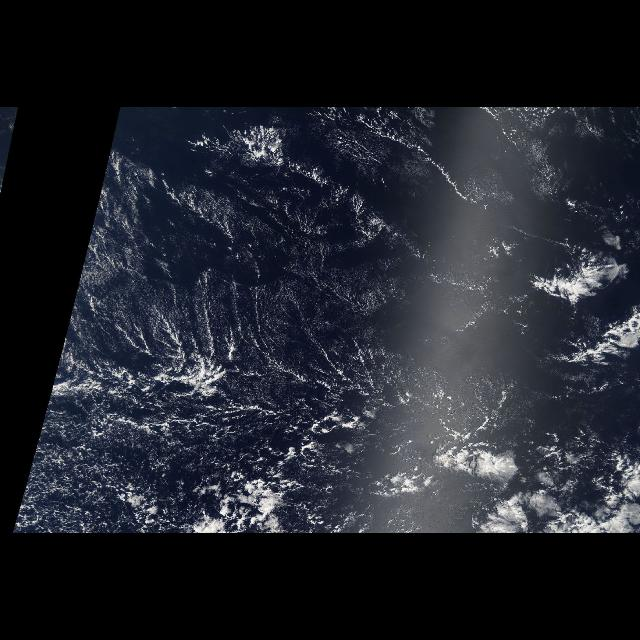Gravel: (14, 375, 338, 533)
Sugar: (47, 133, 377, 409), (8, 132, 14, 164)
